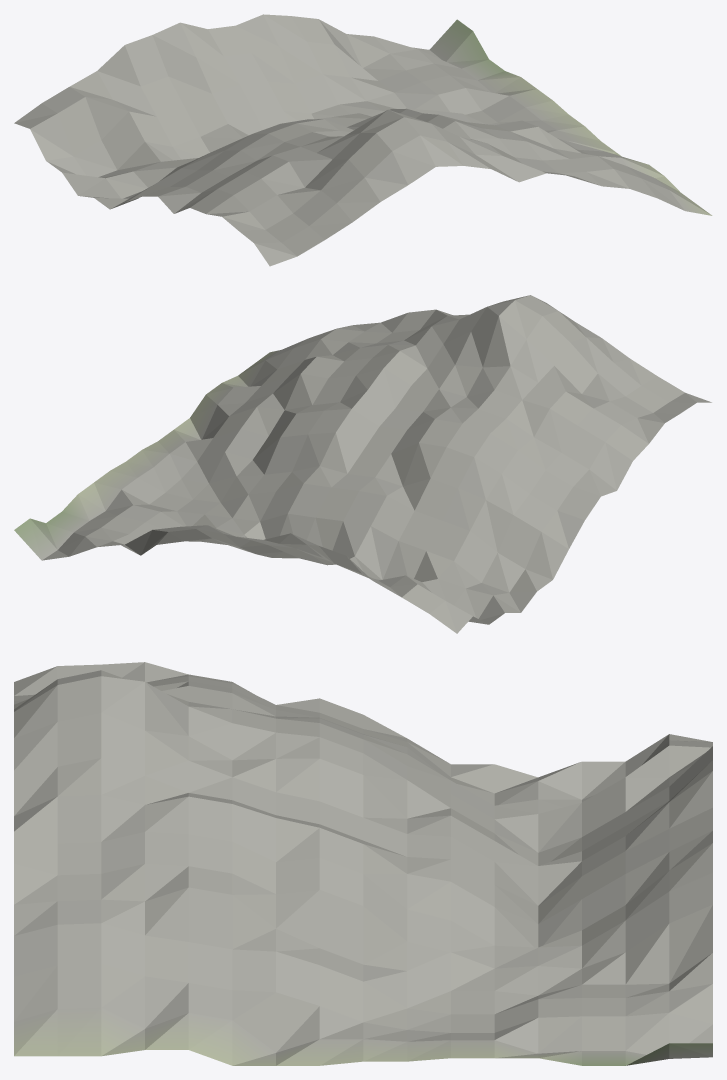
3 views of the same model, one above another, from view 1: azimuth 30°, elevation 25°; view 2: azimuth 150°, elevation 25°; view 3: azimuth 270°, elevation 25° (orthographic). The views are drawn at different scales.
Size of the model in its own units: 32 by 11.11 by 32.
